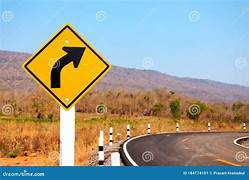right: (22, 24, 112, 111)
